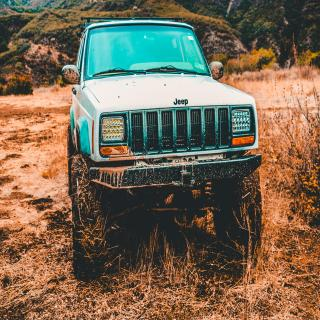Normal_vehicle: (63, 20, 263, 281)
